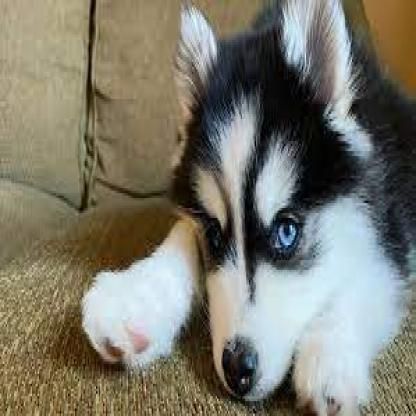dog: (106, 10, 414, 416)
